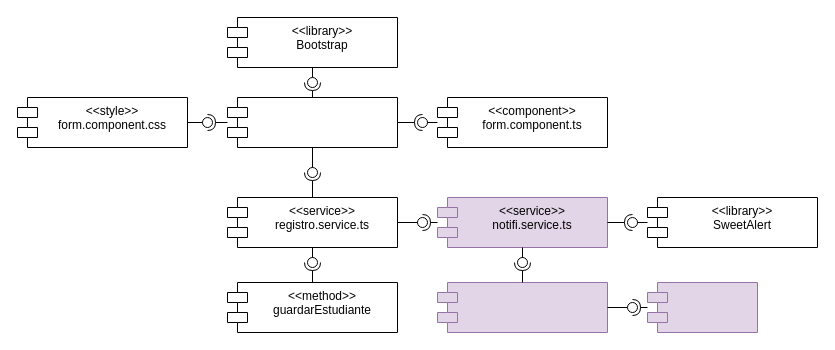
The diagram is 835 pixels wide and 350 high, and some of its shapes have lost their labels. Each missing label, with the centre of its shape:
"<<interface>> form.component.html" goes at point 312,122.
"<<library>> NodeMailer" goes at point 702,307.
"<<method>> notificarEstudiante" goes at point 522,307.
